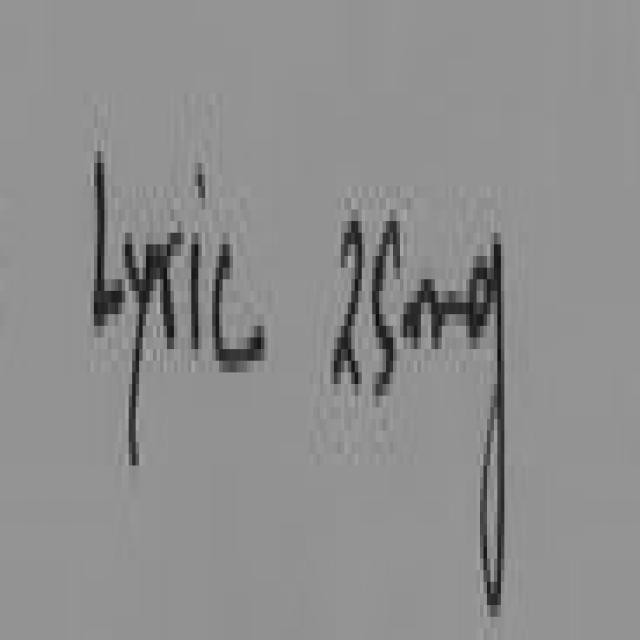2: (334, 221, 365, 384)
5: (376, 221, 403, 390)
L: (94, 151, 125, 320)
c: (216, 244, 264, 372)
g: (467, 244, 505, 617)
i: (191, 233, 202, 343), (198, 163, 205, 209)
m: (403, 279, 473, 349)
r: (153, 233, 183, 349)
y: (125, 244, 160, 465)
